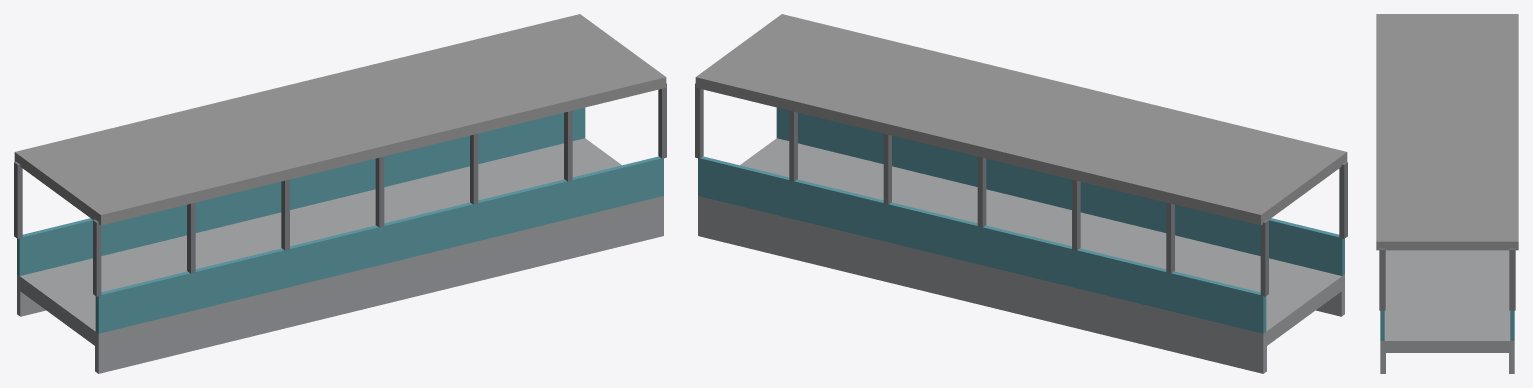
Rendered from hosp-bridge-14.mega-v2.lod1.glb.
The picture shows the model from 3 angles, left to right: view 1: azimuth 30°, elevation 25°; view 2: azimuth 150°, elevation 25°; view 3: azimuth 270°, elevation 25°; orthographic projection. The views are drawn at different scales.
Parts seen in each view (by area): view 1: hosp-bridge-14; view 2: hosp-bridge-14; view 3: hosp-bridge-14.
Boxes of the visible parts, left/top/right/bottom form: hosp-bridge-14: left=14, top=14, right=666, bottom=373; hosp-bridge-14: left=695, top=14, right=1347, bottom=373; hosp-bridge-14: left=1376, top=14, right=1518, bottom=373.
Size of the model in its own units: 14.12 by 3.8 by 3.7.
